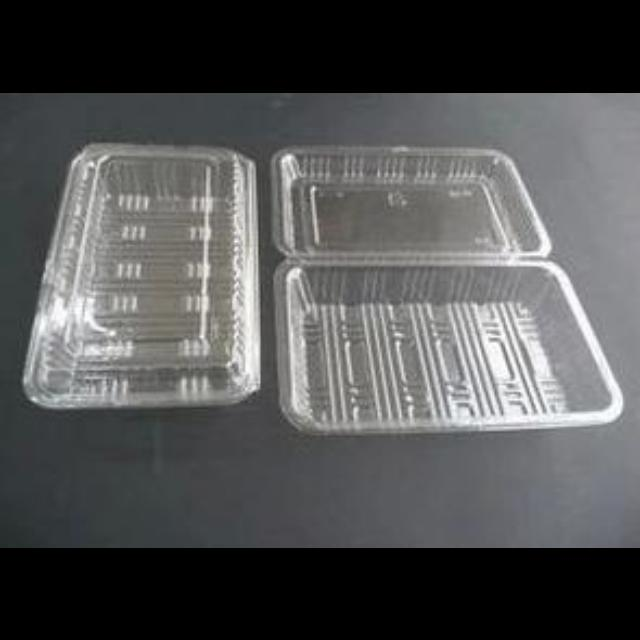plastic_box: (268, 140, 622, 434), (20, 138, 256, 408)
